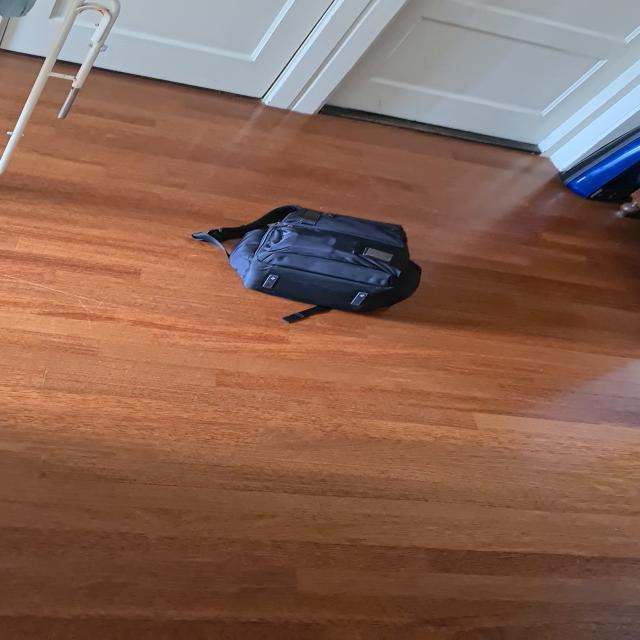backpack: (224, 200, 425, 322)
